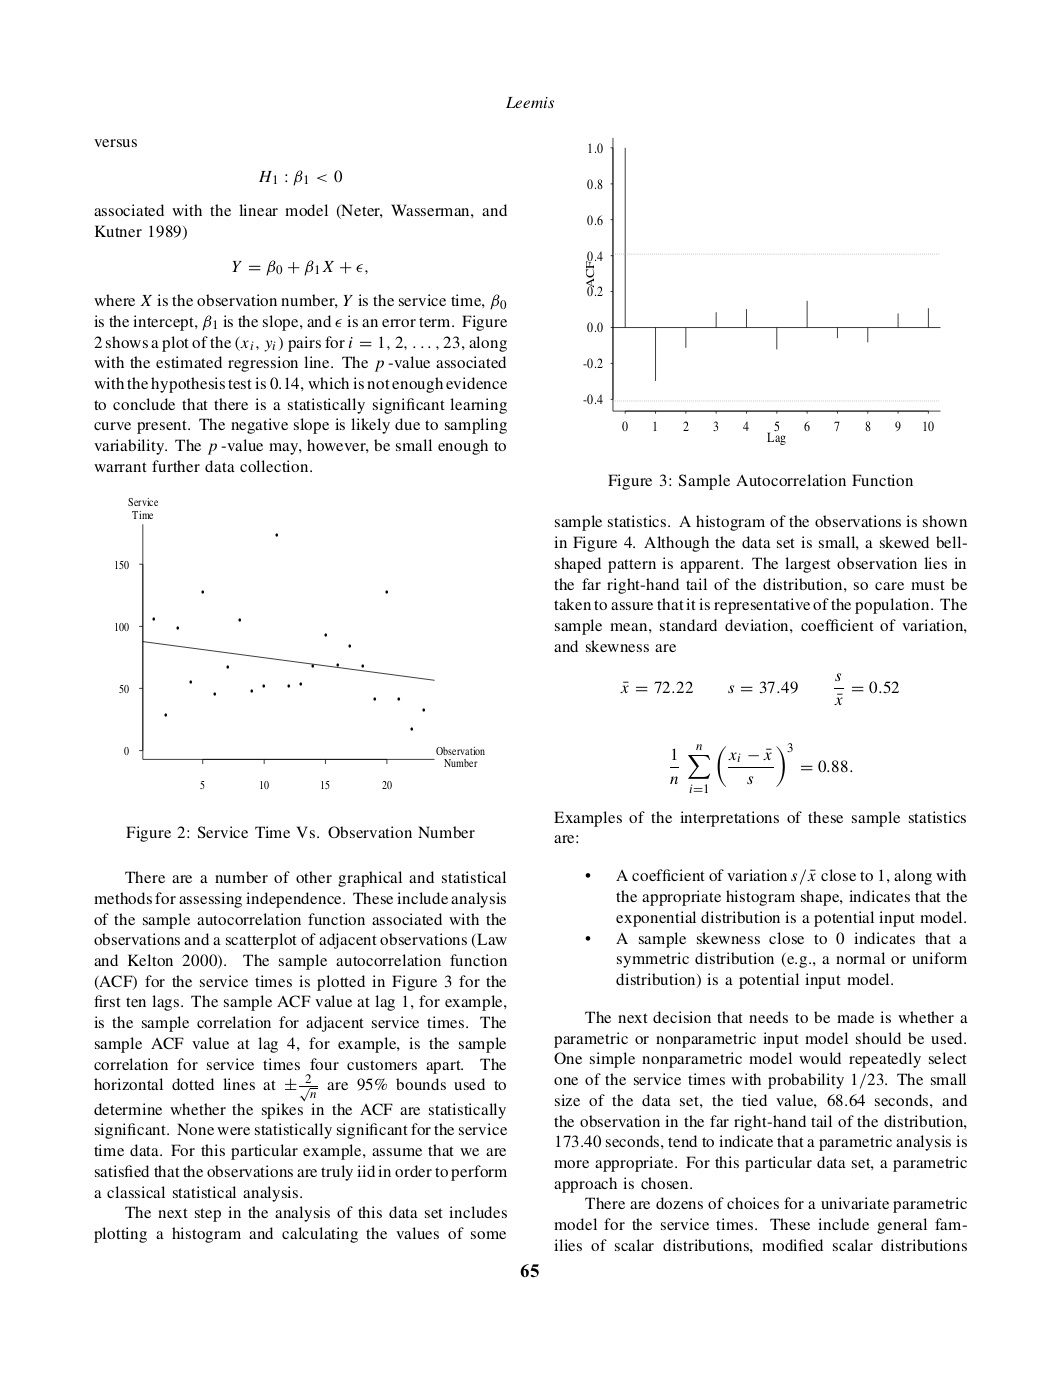figure: (583, 137, 940, 444), (115, 497, 484, 789)
formula: (670, 742, 851, 793), (620, 673, 898, 705), (232, 259, 367, 276), (259, 169, 342, 186)
